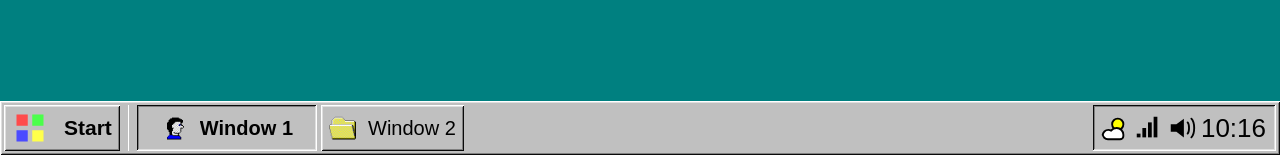
Test: Taskbar › toggles weather tooltip on click
Check: the element with test id "taskbar" is shown, box [0,101,1279,154]
Step 1. Click the button titled "Weather" → (1114, 128), box [1099,104,1129,152]
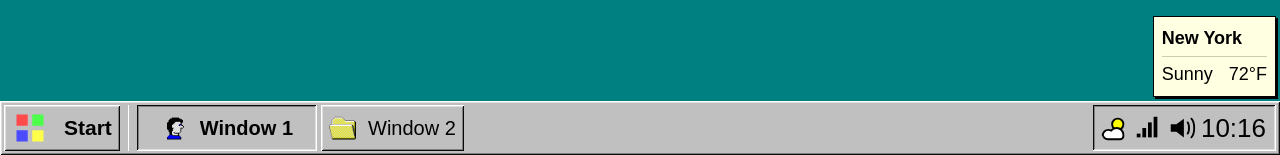
Check: the text "New York" is shown, box [1162,25,1267,57]
# Click again to hide
Step 2. Click the button titled "Weather" → (1114, 128), box [1099,104,1129,152]
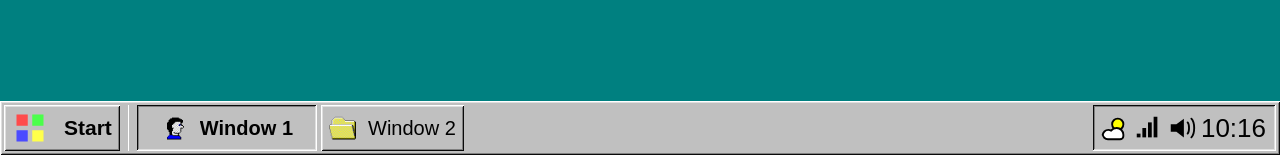
Check: the text "New York" is gone
